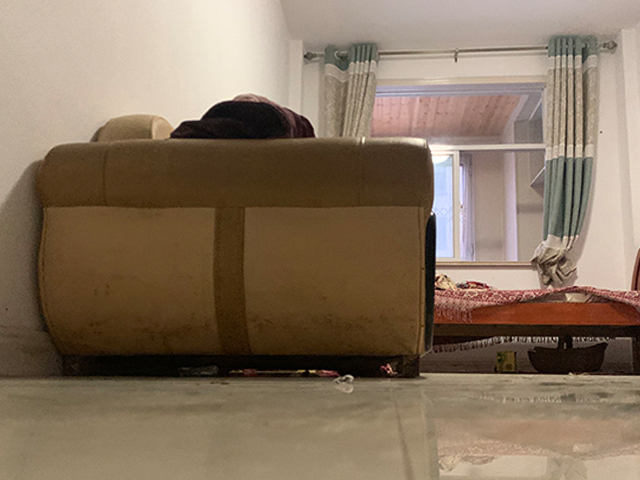bed: (433, 248, 640, 375)
curtain: (534, 37, 601, 285), (319, 38, 377, 137)
sofa: (34, 114, 437, 379)
